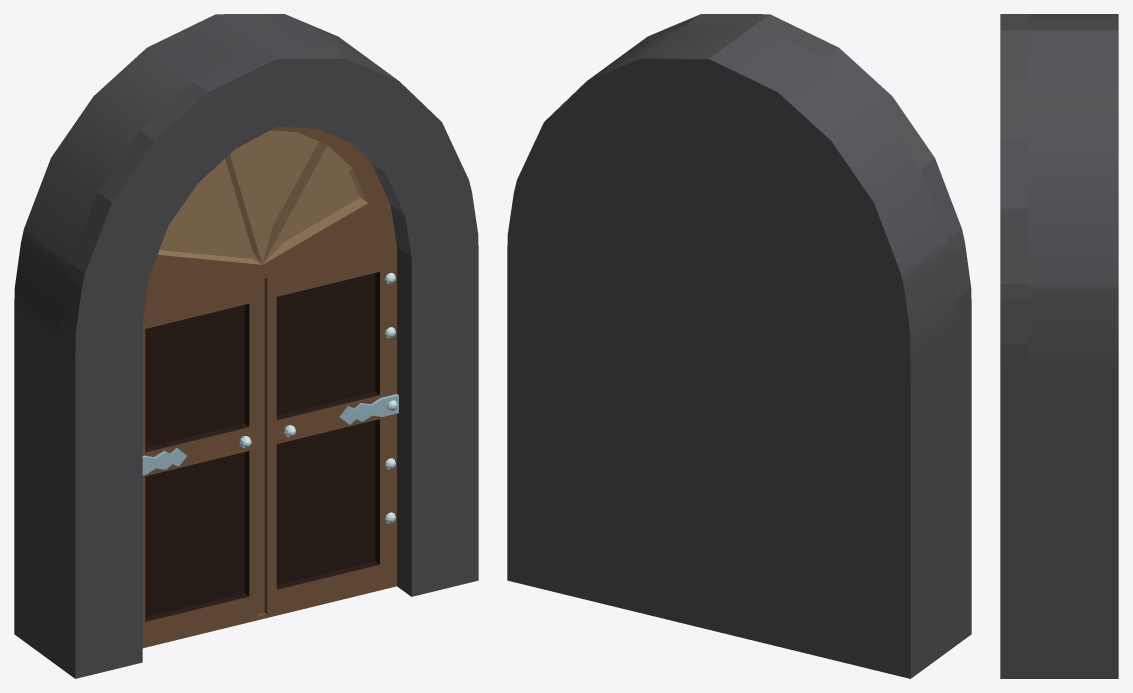
File: Puerta.fbx
3 views of the same model, side by side, from view 1: azimuth 30°, elevation 25°; view 2: azimuth 150°, elevation 25°; view 3: azimuth 270°, elevation 25° (orthographic). The views are drawn at different scales.
Parts seen in each view (by area): view 1: Puerta; view 2: Puerta; view 3: Puerta.
Boxes of the visible parts, left/top/right/bottom form: Puerta: left=14, top=14, right=478, bottom=678; Puerta: left=507, top=14, right=971, bottom=678; Puerta: left=1000, top=14, right=1118, bottom=678.
Bounding box in the file's own units: 5.2 × 7.03 × 1.36.
